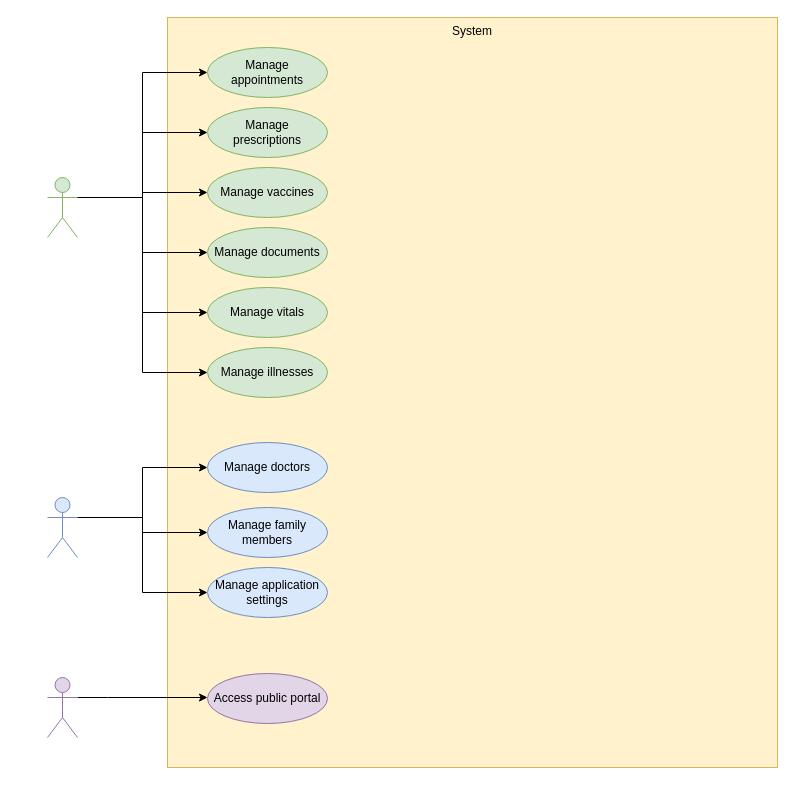
The diagram is 795 pixels wide and 785 high, and some of its shapes have lost their labels. The centre of each missing label's shape, as x and y in pixels:
Doctor: point (62, 707)
Family Manager: point (62, 527)
Family Member: point (62, 207)
